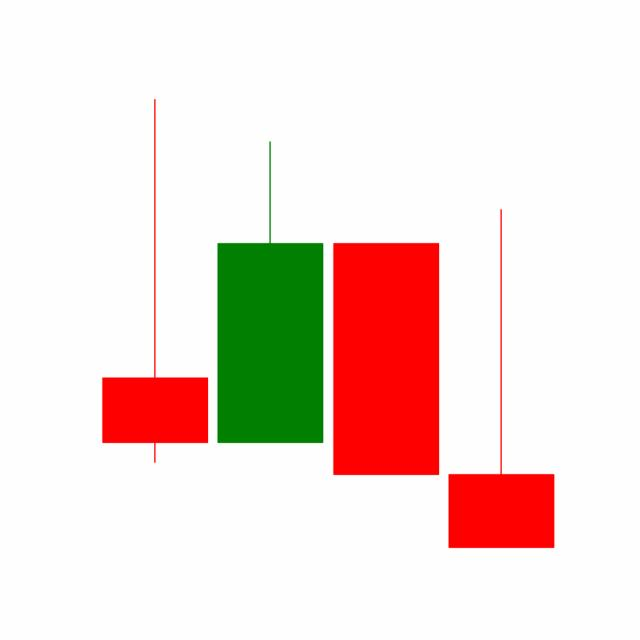Marubozu: (328, 239, 444, 477)
